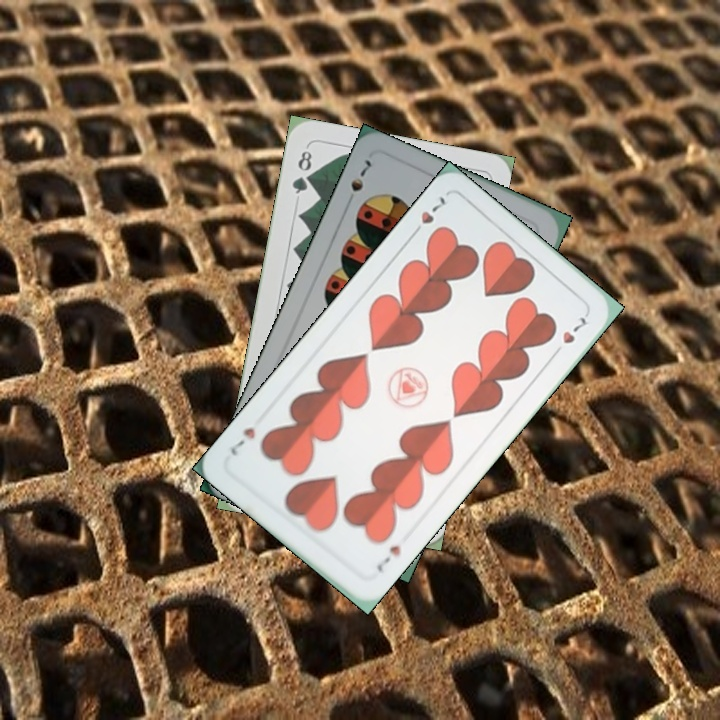G8: (288, 146, 315, 197)
H7: (406, 192, 450, 240), (372, 541, 404, 575)
S7: (342, 155, 374, 209)
